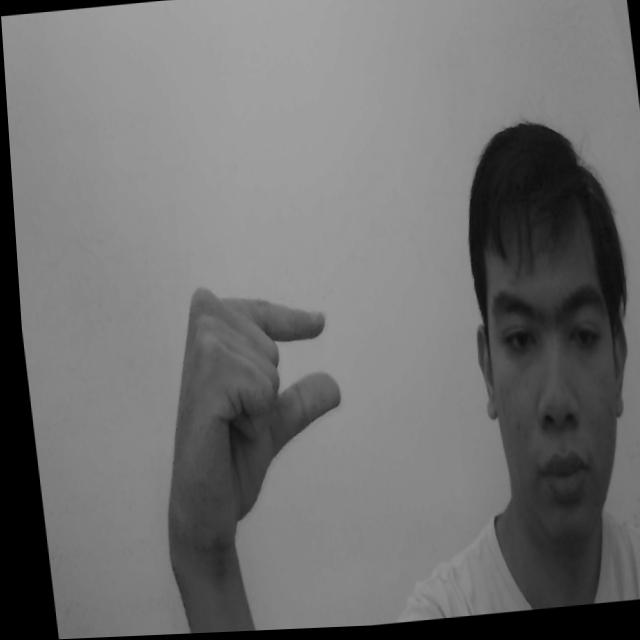G: (134, 276, 353, 553)
